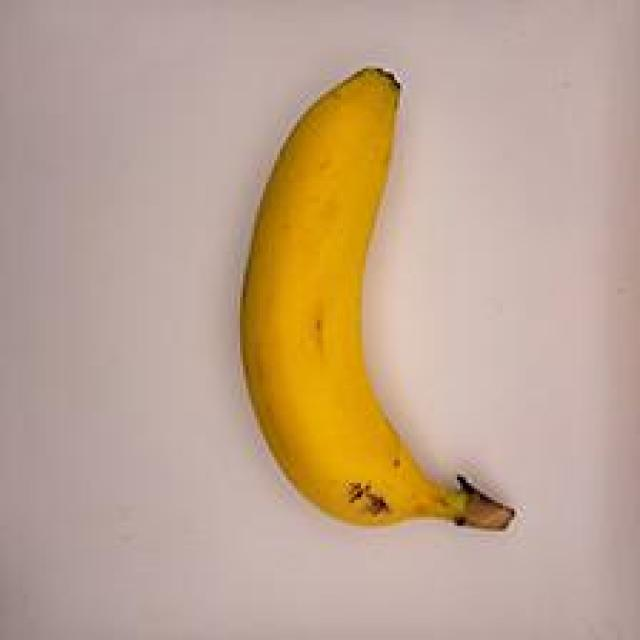ripe: (220, 58, 530, 550)
